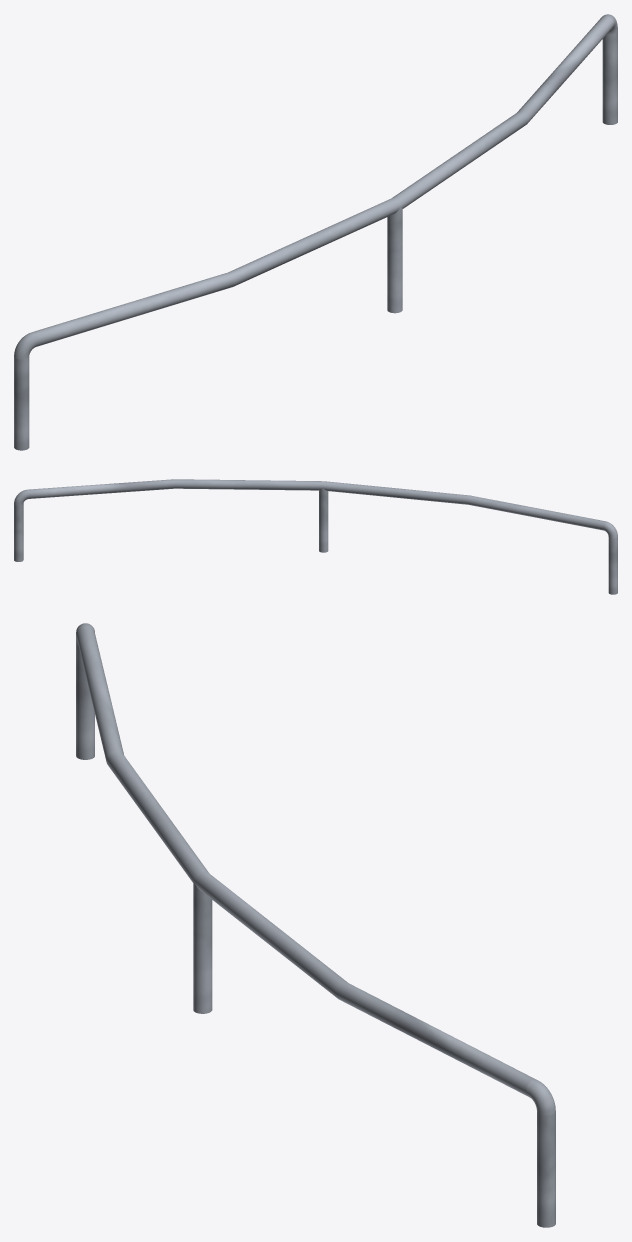
Rendered from rail-c-300.gltf.
3 views of the same model, one above another, from view 1: azimuth 30°, elevation 25°; view 2: azimuth 150°, elevation 25°; view 3: azimuth 270°, elevation 25° (orthographic). The views are drawn at different scales.
Parts seen in each view (by area): view 1: SK0165_#Rail_C_300.001; view 2: SK0165_#Rail_C_300.001; view 3: SK0165_#Rail_C_300.001.
Boxes of the visible parts, x1,y1,x2,y2 form: SK0165_#Rail_C_300.001: [14, 14, 617, 450]; SK0165_#Rail_C_300.001: [14, 479, 617, 594]; SK0165_#Rail_C_300.001: [76, 623, 555, 1227].
Size of the model in its own units: 2.95 by 0.4 by 1.26.
Materials: 1 (1 with a texture image).
